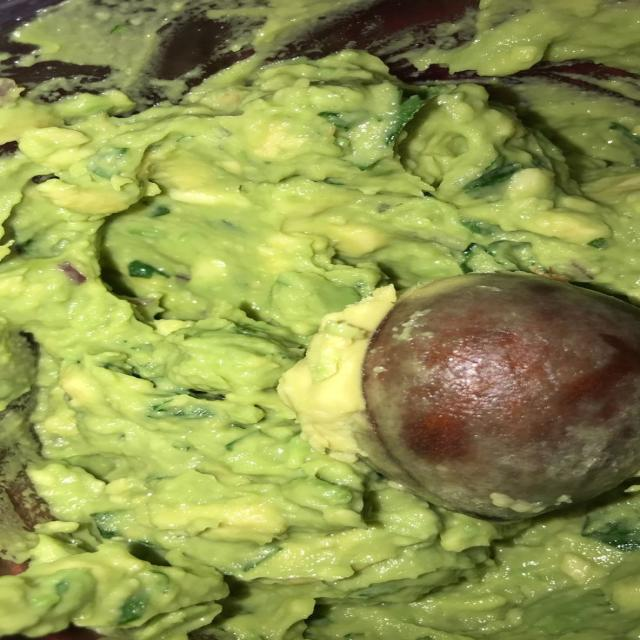avocado: (0, 50, 639, 640), (0, 0, 477, 101), (403, 0, 639, 76)
